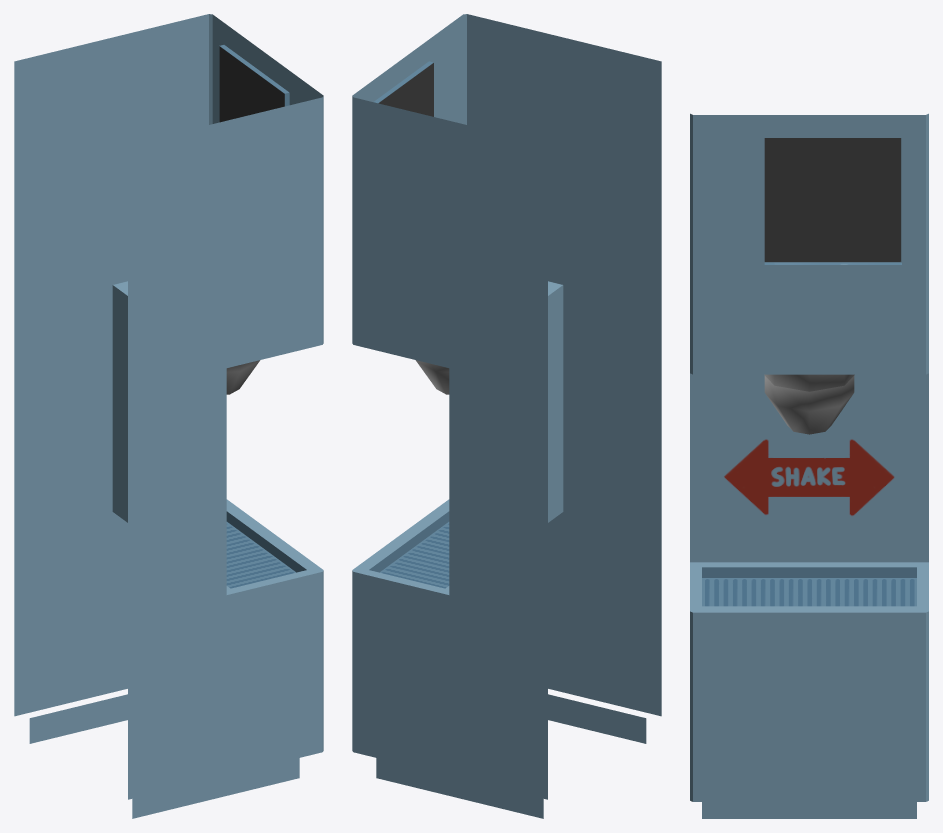
The model's file is toppingMachine.gltf.
3 renders of one model, left to right at view 1: azimuth 30°, elevation 25°; view 2: azimuth 150°, elevation 25°; view 3: azimuth 270°, elevation 25°, orthographic. The views are drawn at different scales.
Parts seen in each view (by area): view 1: Cube.006; view 2: Cube.006; view 3: Cube.006.
Boxes of the visible parts, x1,y1,x2,y2 form: Cube.006: (14, 14, 323, 818); Cube.006: (352, 14, 661, 818); Cube.006: (690, 113, 928, 818).
Size of the model in its own units: 2 by 6.6 by 2.
